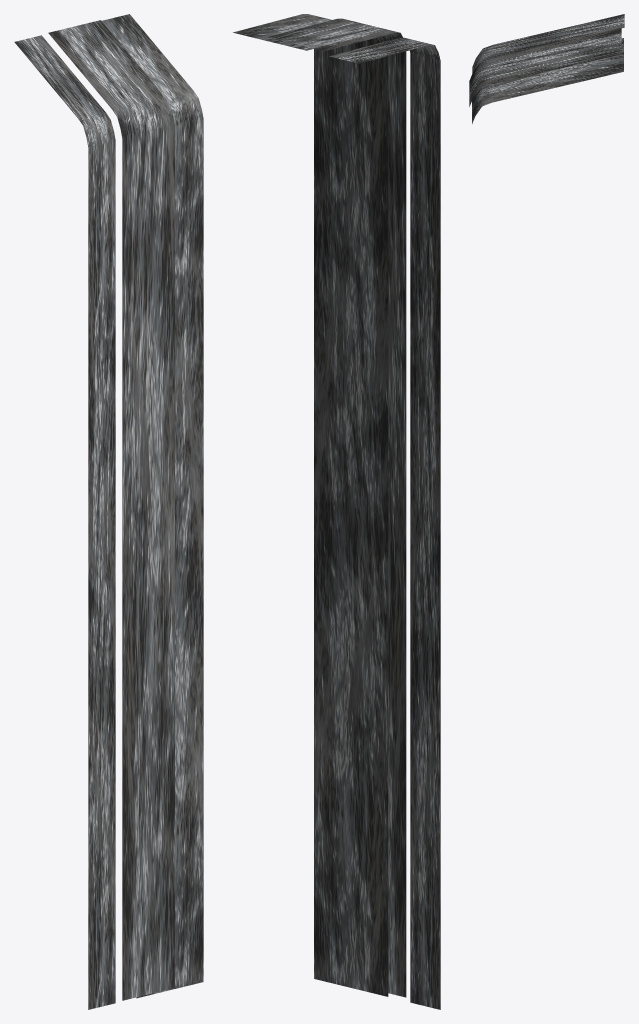
Rendered from yanjiang.fbx.
The picture shows the model from 3 angles, left to right: view 1: azimuth 30°, elevation 25°; view 2: azimuth 150°, elevation 25°; view 3: azimuth 270°, elevation 25°; orthographic projection. The views are drawn at different scales.
Parts seen in each view (by area): view 1: yanjiang; view 2: yanjiang; view 3: yanjiang.
Part boxes in pixels (<box>): yanjiang: <box>14,14,203,1009</box>; yanjiang: <box>233,14,440,1009</box>; yanjiang: <box>469,14,624,123</box>.
Bounding box in the file's own units: 2.37 × 18.03 × 2.69.
